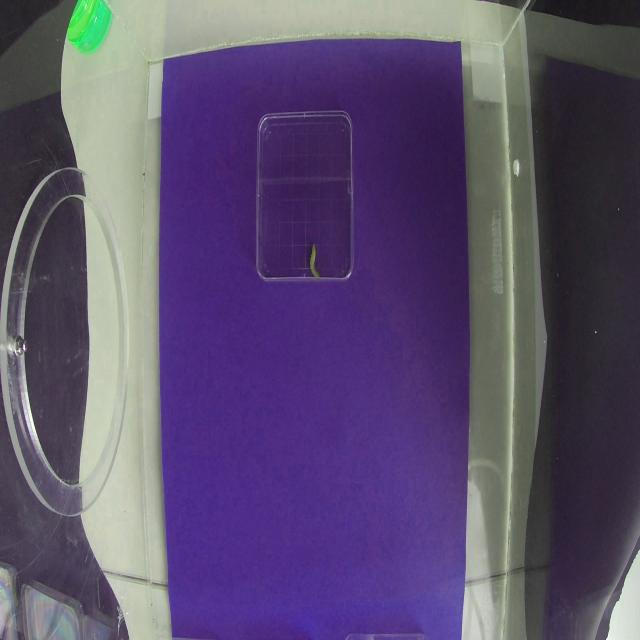larva: (63, 1, 116, 59), (309, 244, 323, 276)
